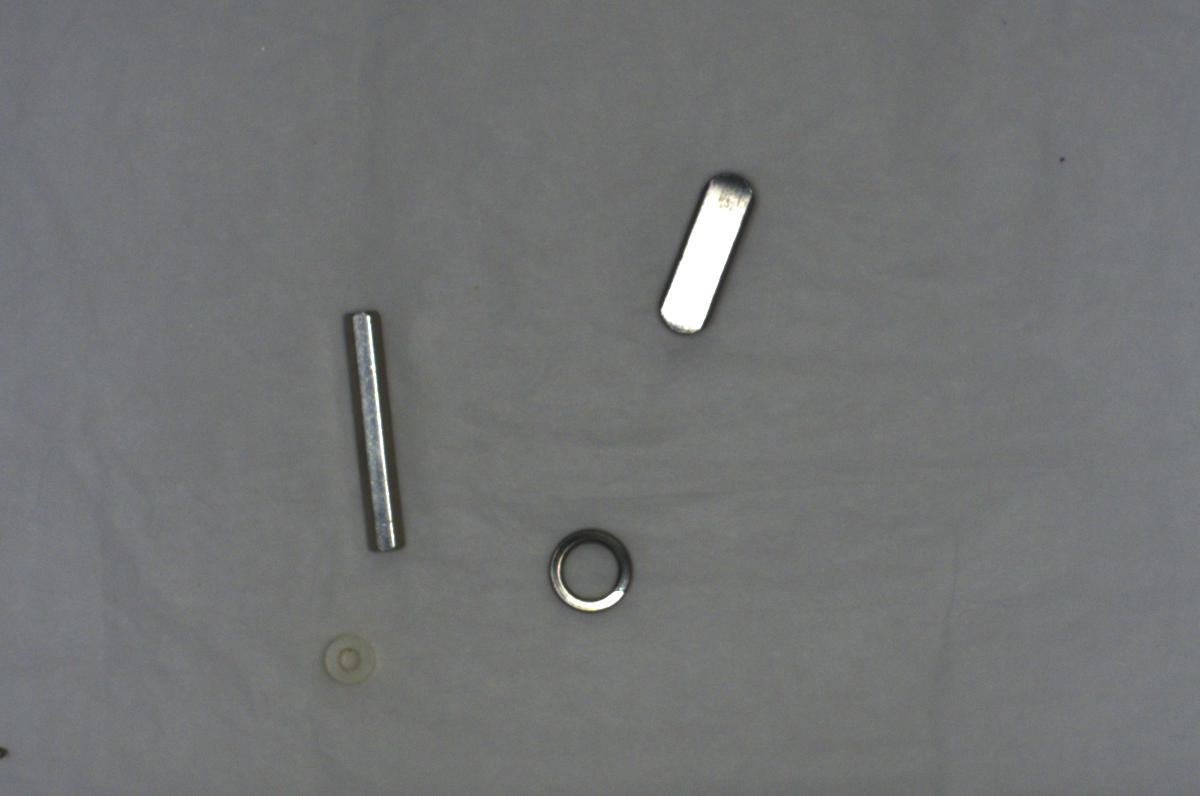Double hexagonal column: (333, 303, 421, 561)
Keybar: (648, 168, 760, 334)
Plastic cushion pillar: (302, 629, 392, 689)
Spring washer: (544, 519, 638, 625)
